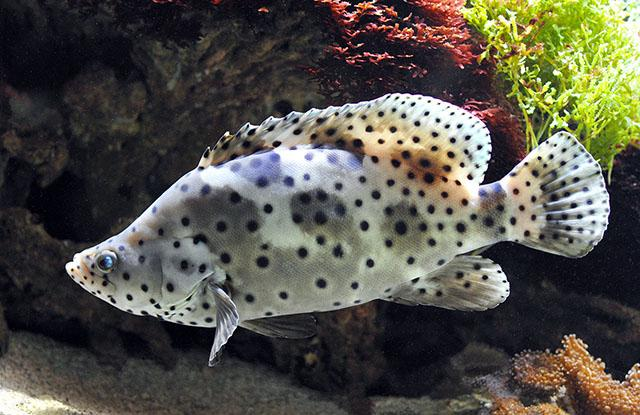Mulut: (49, 222, 114, 312)
Sirip Anal: (397, 244, 523, 318)
Sirip Dada: (193, 270, 245, 378)
Sirip Ekor: (526, 115, 622, 277)
Sirip Perut: (243, 307, 329, 349)
Sirip Punggung: (192, 83, 496, 196)
